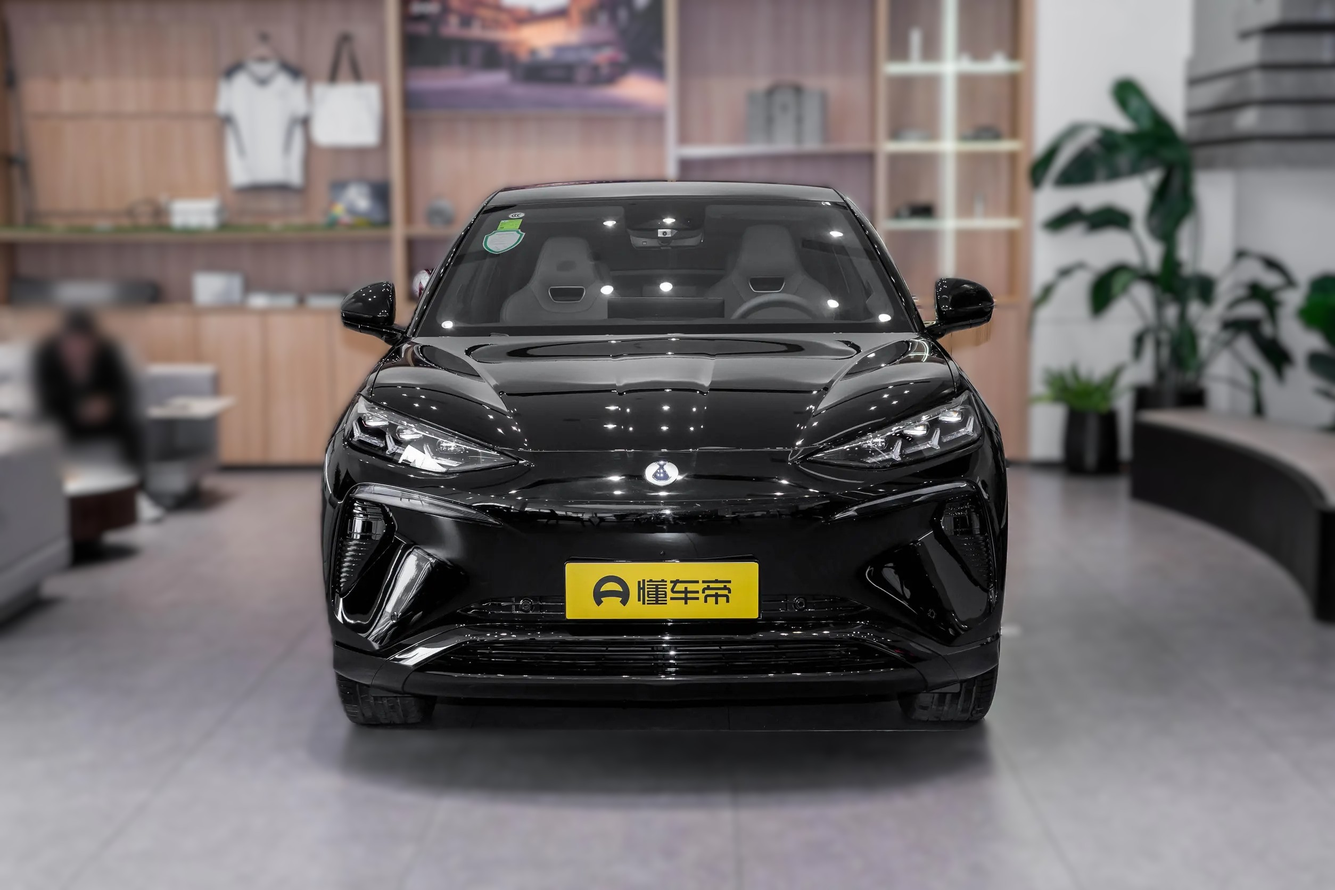DENZA: (646, 462, 678, 485)
